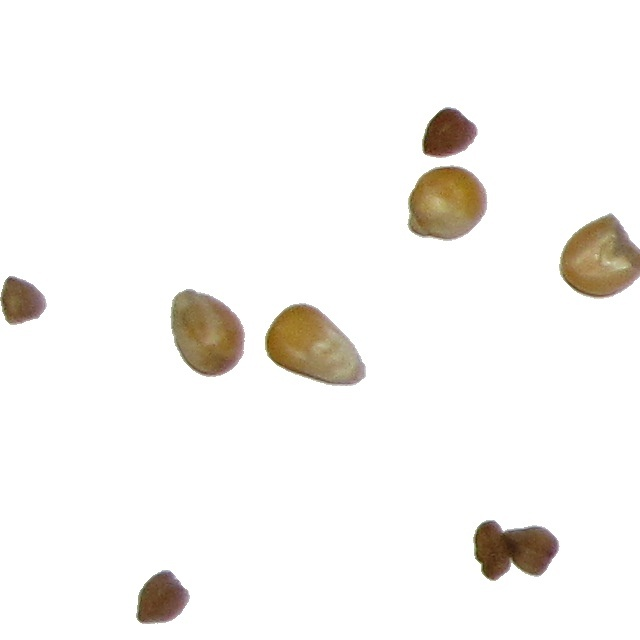buckwheat: (500, 519, 561, 576), (135, 569, 191, 625), (421, 106, 479, 159)
mais: (264, 302, 367, 387), (558, 212, 640, 300), (169, 288, 246, 378), (406, 164, 489, 242)
